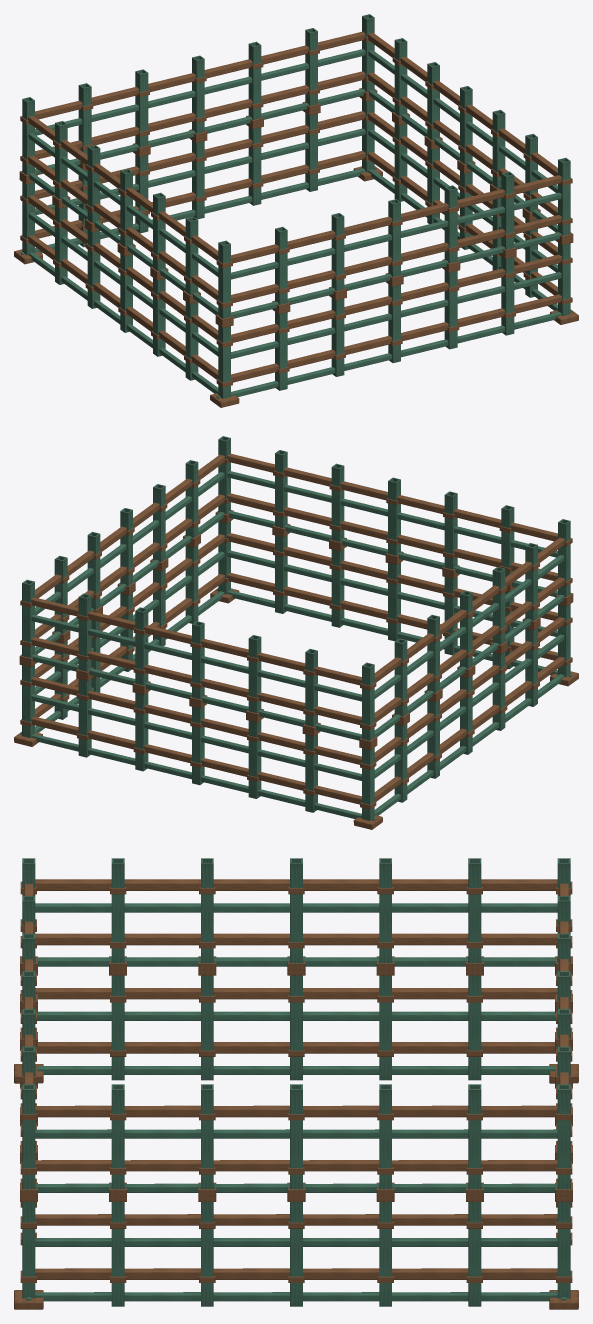
3 renders of one model, top to bottom at view 1: azimuth 30°, elevation 25°; view 2: azimuth 150°, elevation 25°; view 3: azimuth 270°, elevation 25°, orthographic. The views are drawn at different scales.
Visible parts, largest first — view 1: Tier 1 side 2 post 4, Tier 1 side 0 post 5, Tier 1 side 0 post 4, Tier 1 side 2 post 2, Tier 1 side 0 post 2, Tier 1 side 0 post 0, Tier 0 side 0 post 4, Tier 0 side 0 post 5, Tier 0 side 2 post 2, Tier 0 side 0 post 2, Tier 1 side 0 post 1, Tier 1 side 1 post 0 (+32 smaller); view 2: Tier 1 side 0 post 2, Tier 1 side 2 post 1, Tier 1 side 0 post 4, Tier 1 side 2 post 4, Tier 1 side 2 post 2, Tier 1 side 3 post 0, Tier 0 side 2 post 1, Tier 0 side 2 post 2, Tier 0 side 2 post 4, Tier 0 side 0 post 4, Tier 1 side 2 post 5, Tier 1 side 2 post 0 (+32 smaller); view 3: Tier 1 side 1 post 0, Tier 1 side 1 post 1, Tier 1 side 1 post 5, Tier 1 side 2 post 0, Tier 1 side 3 post 1, Tier 1 side 3 post 5, Tier 0 side 3 post 1, Tier 0 side 3 post 5, Tier 0 side 1 post 1, Tier 0 side 1 post 5, Tier 1 side 1 post 2, Tier 1 side 1 post 3 (+108 smaller).
Boxes of the visible parts, x1,y1,x2,y2 form: Tier 1 side 2 post 4: [135, 69, 148, 147]; Tier 1 side 0 post 5: [501, 171, 514, 249]; Tier 1 side 0 post 4: [444, 185, 457, 263]; Tier 1 side 2 post 2: [248, 41, 261, 119]; Tier 1 side 0 post 2: [331, 213, 344, 291]; Tier 1 side 0 post 0: [218, 240, 230, 318]; Tier 0 side 0 post 4: [444, 270, 457, 349]; Tier 0 side 0 post 5: [501, 256, 514, 335]; Tier 0 side 2 post 2: [248, 127, 261, 205]; Tier 0 side 0 post 2: [331, 298, 344, 376]; Tier 1 side 0 post 1: [275, 226, 287, 304]; Tier 1 side 1 post 0: [558, 157, 570, 235]; Tier 1 side 0 post 2: [444, 491, 457, 569]; Tier 1 side 2 post 1: [78, 593, 91, 671]; Tier 1 side 0 post 4: [331, 463, 344, 541]; Tier 1 side 2 post 4: [248, 635, 261, 713]; Tier 1 side 2 post 2: [135, 607, 148, 685]; Tier 1 side 3 post 0: [362, 662, 374, 740]; Tier 0 side 2 post 1: [78, 678, 91, 757]; Tier 0 side 2 post 2: [135, 692, 148, 771]; Tier 0 side 2 post 4: [248, 720, 261, 798]; Tier 0 side 0 post 4: [331, 549, 344, 627]; Tier 1 side 2 post 5: [305, 649, 317, 726]; Tier 1 side 2 post 0: [22, 579, 34, 657]; Tier 1 side 1 post 0: [22, 1084, 35, 1189]; Tier 1 side 1 post 1: [111, 1084, 124, 1189]; Tier 1 side 1 post 5: [468, 1084, 481, 1189]; Tier 1 side 2 post 0: [557, 1084, 570, 1189]; Tier 1 side 3 post 1: [468, 858, 481, 963]; Tier 1 side 3 post 5: [111, 858, 124, 963]; Tier 0 side 3 post 1: [468, 975, 481, 1080]; Tier 0 side 3 post 5: [111, 975, 124, 1080]; Tier 0 side 1 post 1: [111, 1202, 124, 1306]; Tier 0 side 1 post 5: [468, 1202, 481, 1306]; Tier 1 side 1 post 2: [201, 1084, 213, 1189]; Tier 1 side 1 post 3: [290, 1084, 302, 1189].
Bounding box in the file's own units: 2.85 × 1.21 × 2.85.
2 materials, 2 textured.
